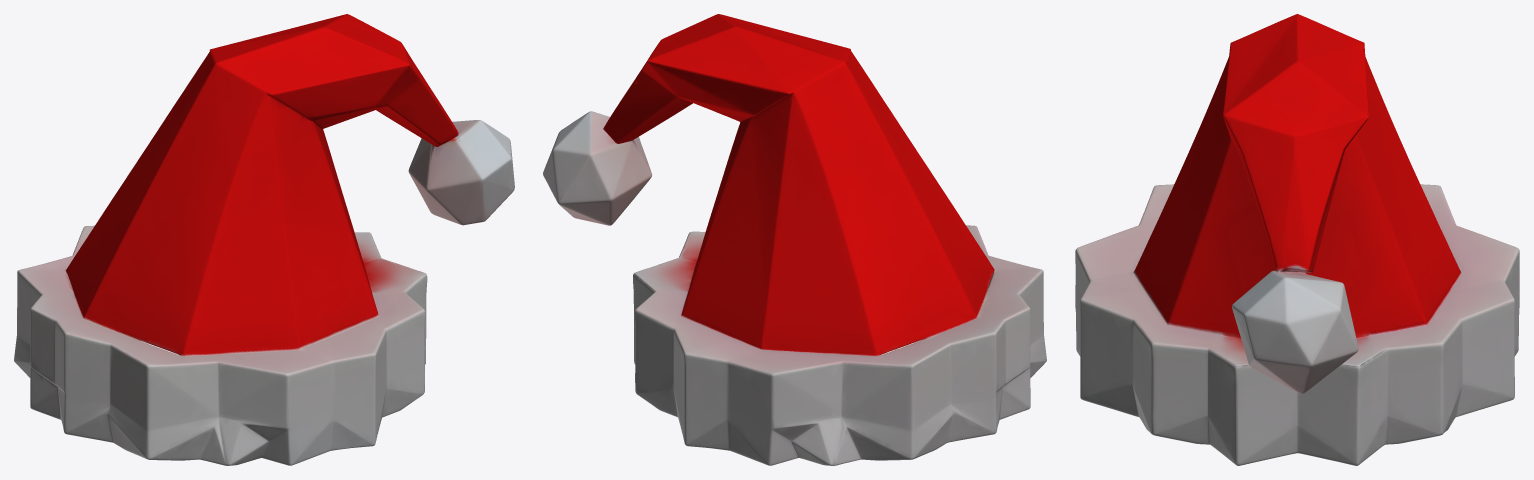
Rendered from santahat.fbx.
The picture shows the model from 3 angles, left to right: view 1: azimuth 30°, elevation 25°; view 2: azimuth 150°, elevation 25°; view 3: azimuth 270°, elevation 25°; orthographic projection. The views are drawn at different scales.
Parts seen in each view (by area): view 1: material; view 2: material; view 3: material.
Boxes of the visible parts, <box> form: material: <box>14,14,514,465</box>; material: <box>543,14,1046,465</box>; material: <box>1075,14,1519,465</box>.
Size of the model in its own units: 100 by 69.34 by 76.19.
Materials: 1 (1 with a texture image).
